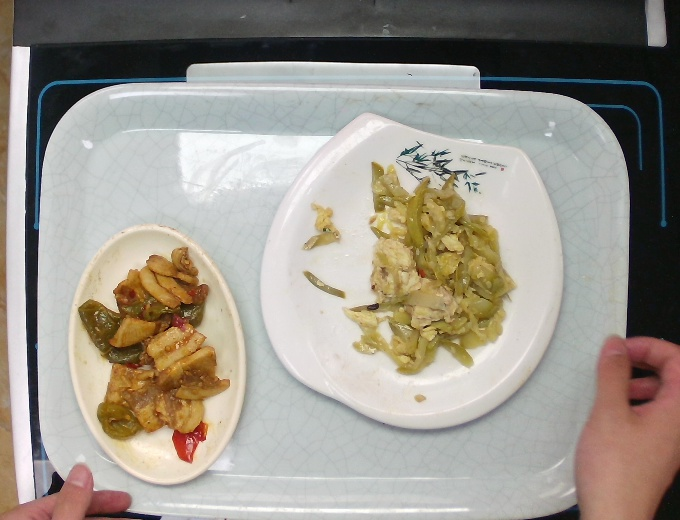JYsf-Mian_Pan: (253, 110, 572, 436)
JYsf-Tuo_Yuan_Wan: (61, 220, 250, 492)
